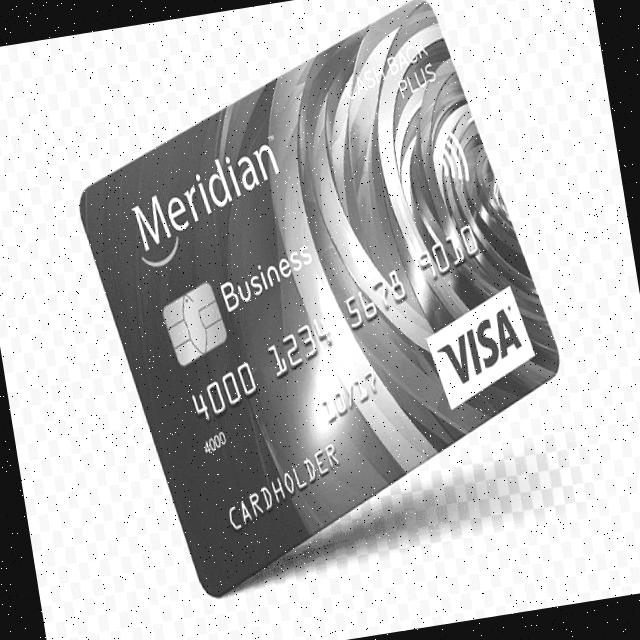card: (80, 0, 567, 605)
